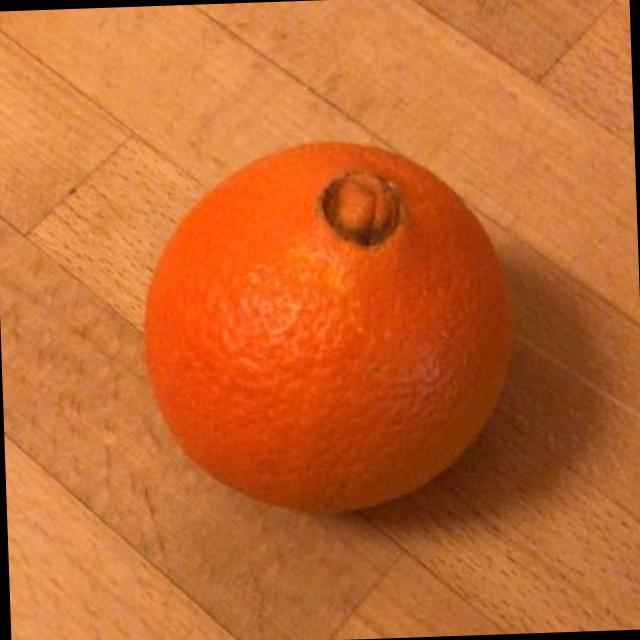Orange: (119, 121, 536, 536)
